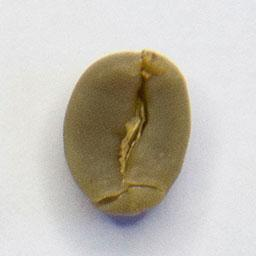premium: (58, 45, 195, 221)
